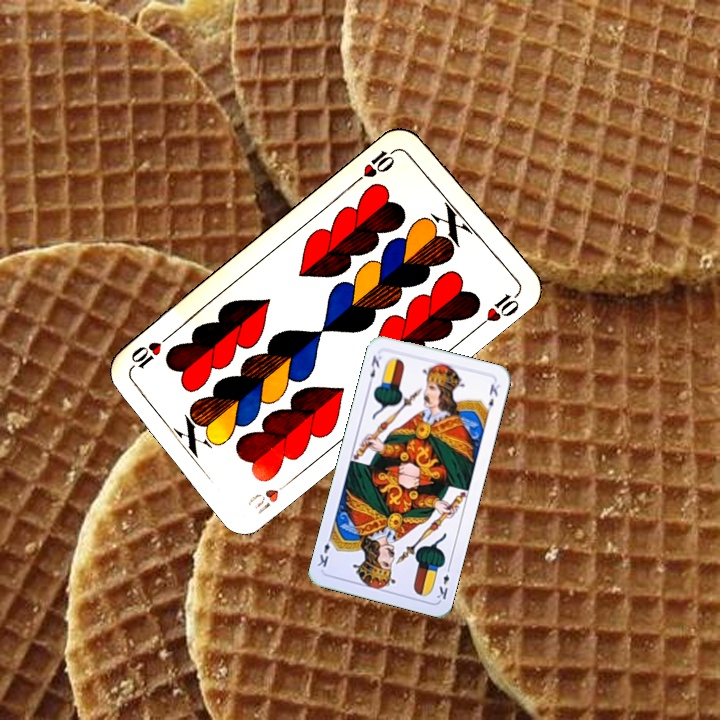EK: (433, 562, 453, 602), (364, 351, 384, 388)
H10: (243, 474, 296, 517), (359, 144, 402, 181)
